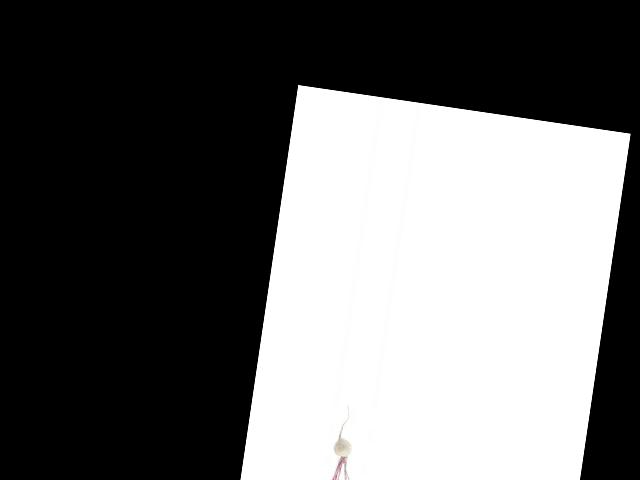beet: (328, 403, 362, 480)
